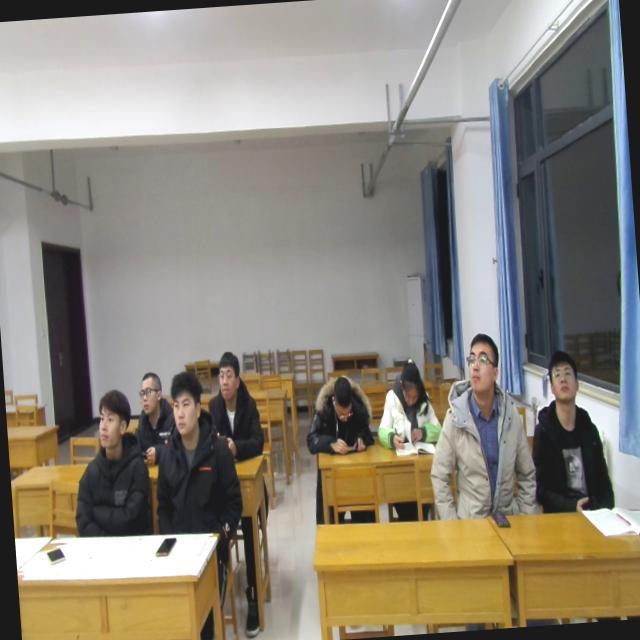down: (395, 352, 428, 412), (324, 367, 355, 423)
lookup: (163, 366, 207, 442), (461, 328, 505, 402), (92, 380, 134, 456), (542, 348, 581, 411), (210, 342, 242, 401), (134, 367, 164, 419)
sit: (419, 330, 538, 521), (144, 370, 244, 536), (526, 344, 619, 514), (65, 386, 151, 536), (369, 345, 445, 458), (195, 347, 268, 460), (300, 369, 372, 460), (130, 363, 176, 468)
